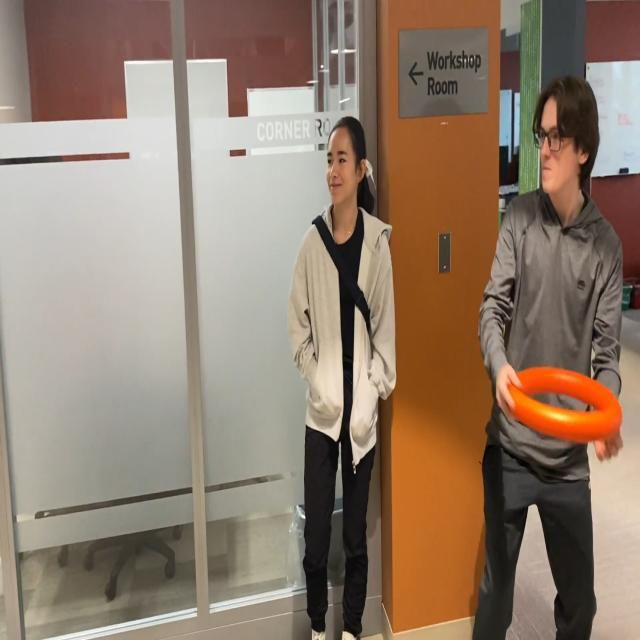note: (498, 362, 624, 446)
